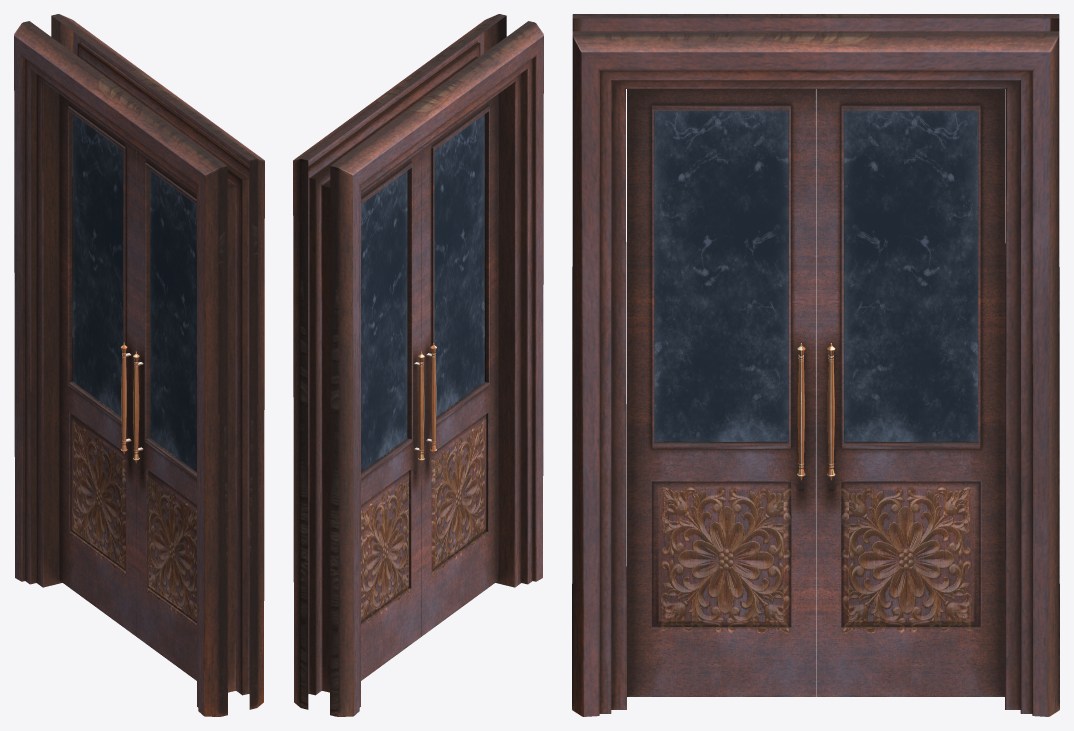
File: door-2.fbx
3 renders of one model, left to right at view 1: azimuth 30°, elevation 25°; view 2: azimuth 150°, elevation 25°; view 3: azimuth 270°, elevation 25°, orthographic. The views are drawn at different scales.
Visible parts, largest first — view 1: Door002, Door_004, Door_003; view 2: Door002, Door_003, Door_004; view 3: Door_004, Door_003, Door002.
Boxes of the visible parts, left/top/right/bottom form: Door002: left=14, top=14, right=264, bottom=716; Door_004: left=59, top=94, right=136, bottom=636; Door_003: left=133, top=150, right=196, bottom=680; Door002: left=293, top=14, right=543, bottom=716; Door_003: left=421, top=94, right=498, bottom=636; Door_004: left=361, top=151, right=424, bottom=680; Door_004: left=816, top=89, right=1005, bottom=696; Door_003: left=627, top=89, right=815, bottom=696; Door002: left=572, top=14, right=1059, bottom=716.
Size of the model in its own units: 0.4273 by 3.74 by 2.45.
